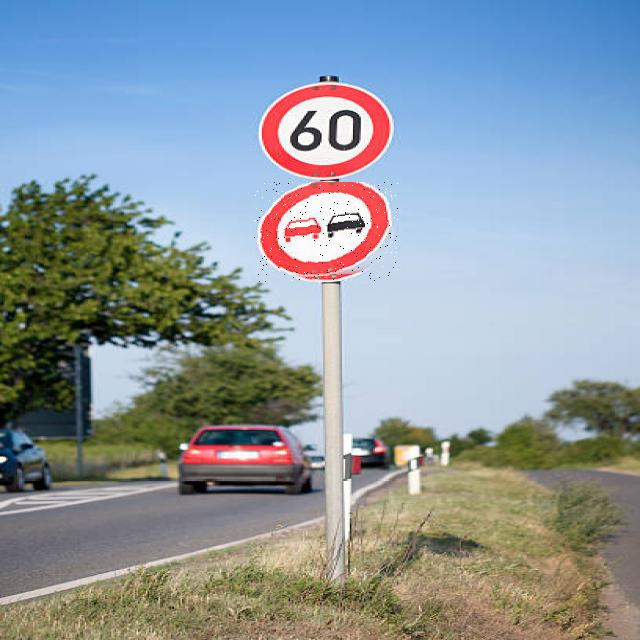no overtaking: (254, 182, 398, 282)
